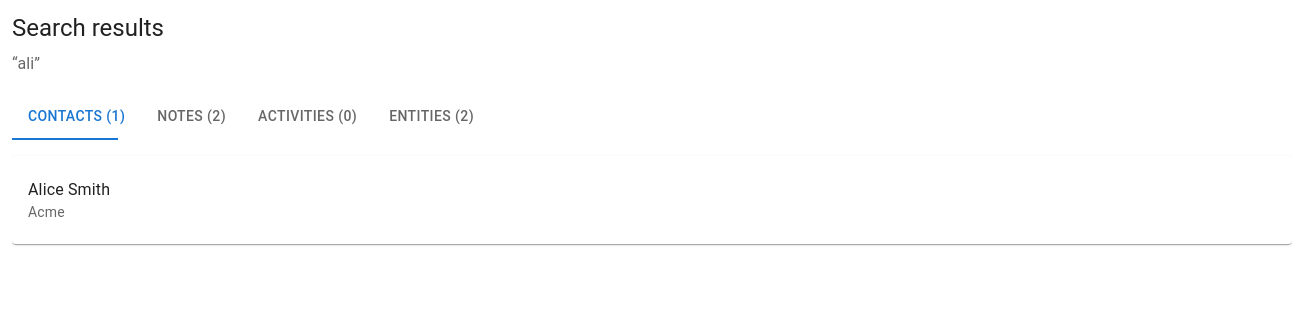
Scenario: entities are the fourth tab: counted, linked to the entity page, with a kind chip
Click the tab "Entities (2)": click(432, 116) [373,92,490,140]
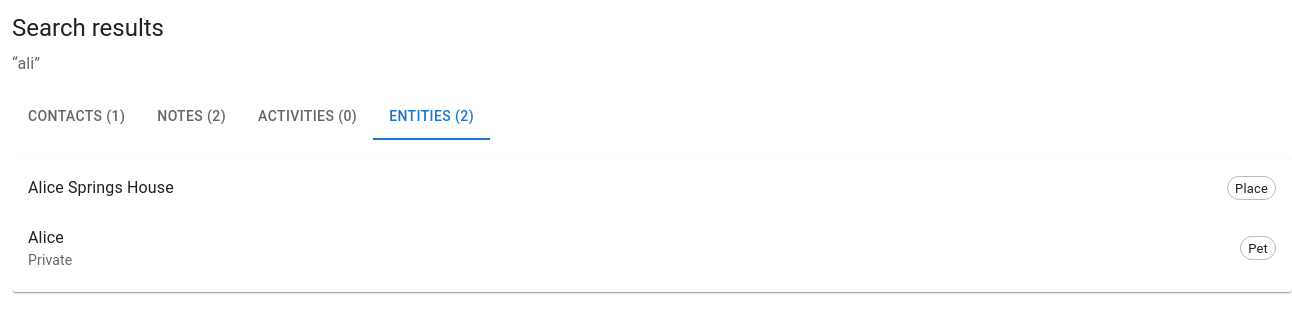
Check: the link "Alice Springs House Place" is shown, box [28,176,1276,200]
Check: the text "Private" is shown, box [28,252,72,268]
